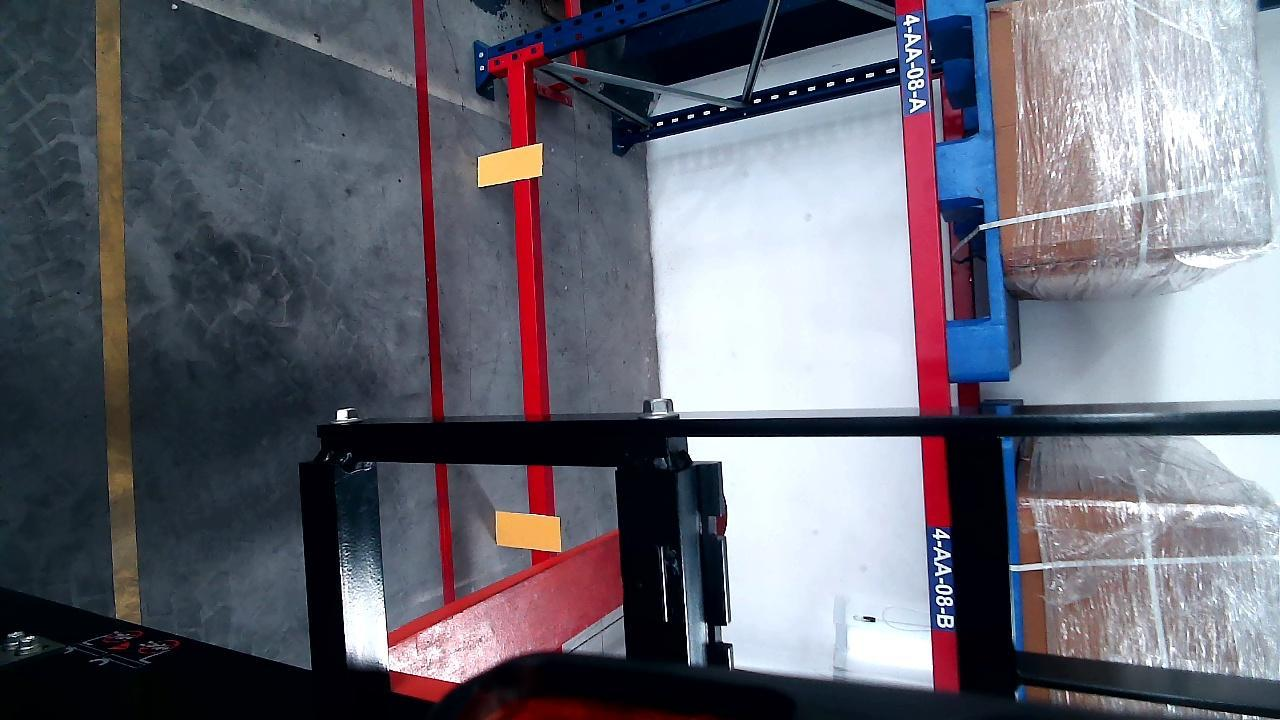red_line: (414, 0, 453, 618)
yellow_line: (94, 0, 140, 626)
